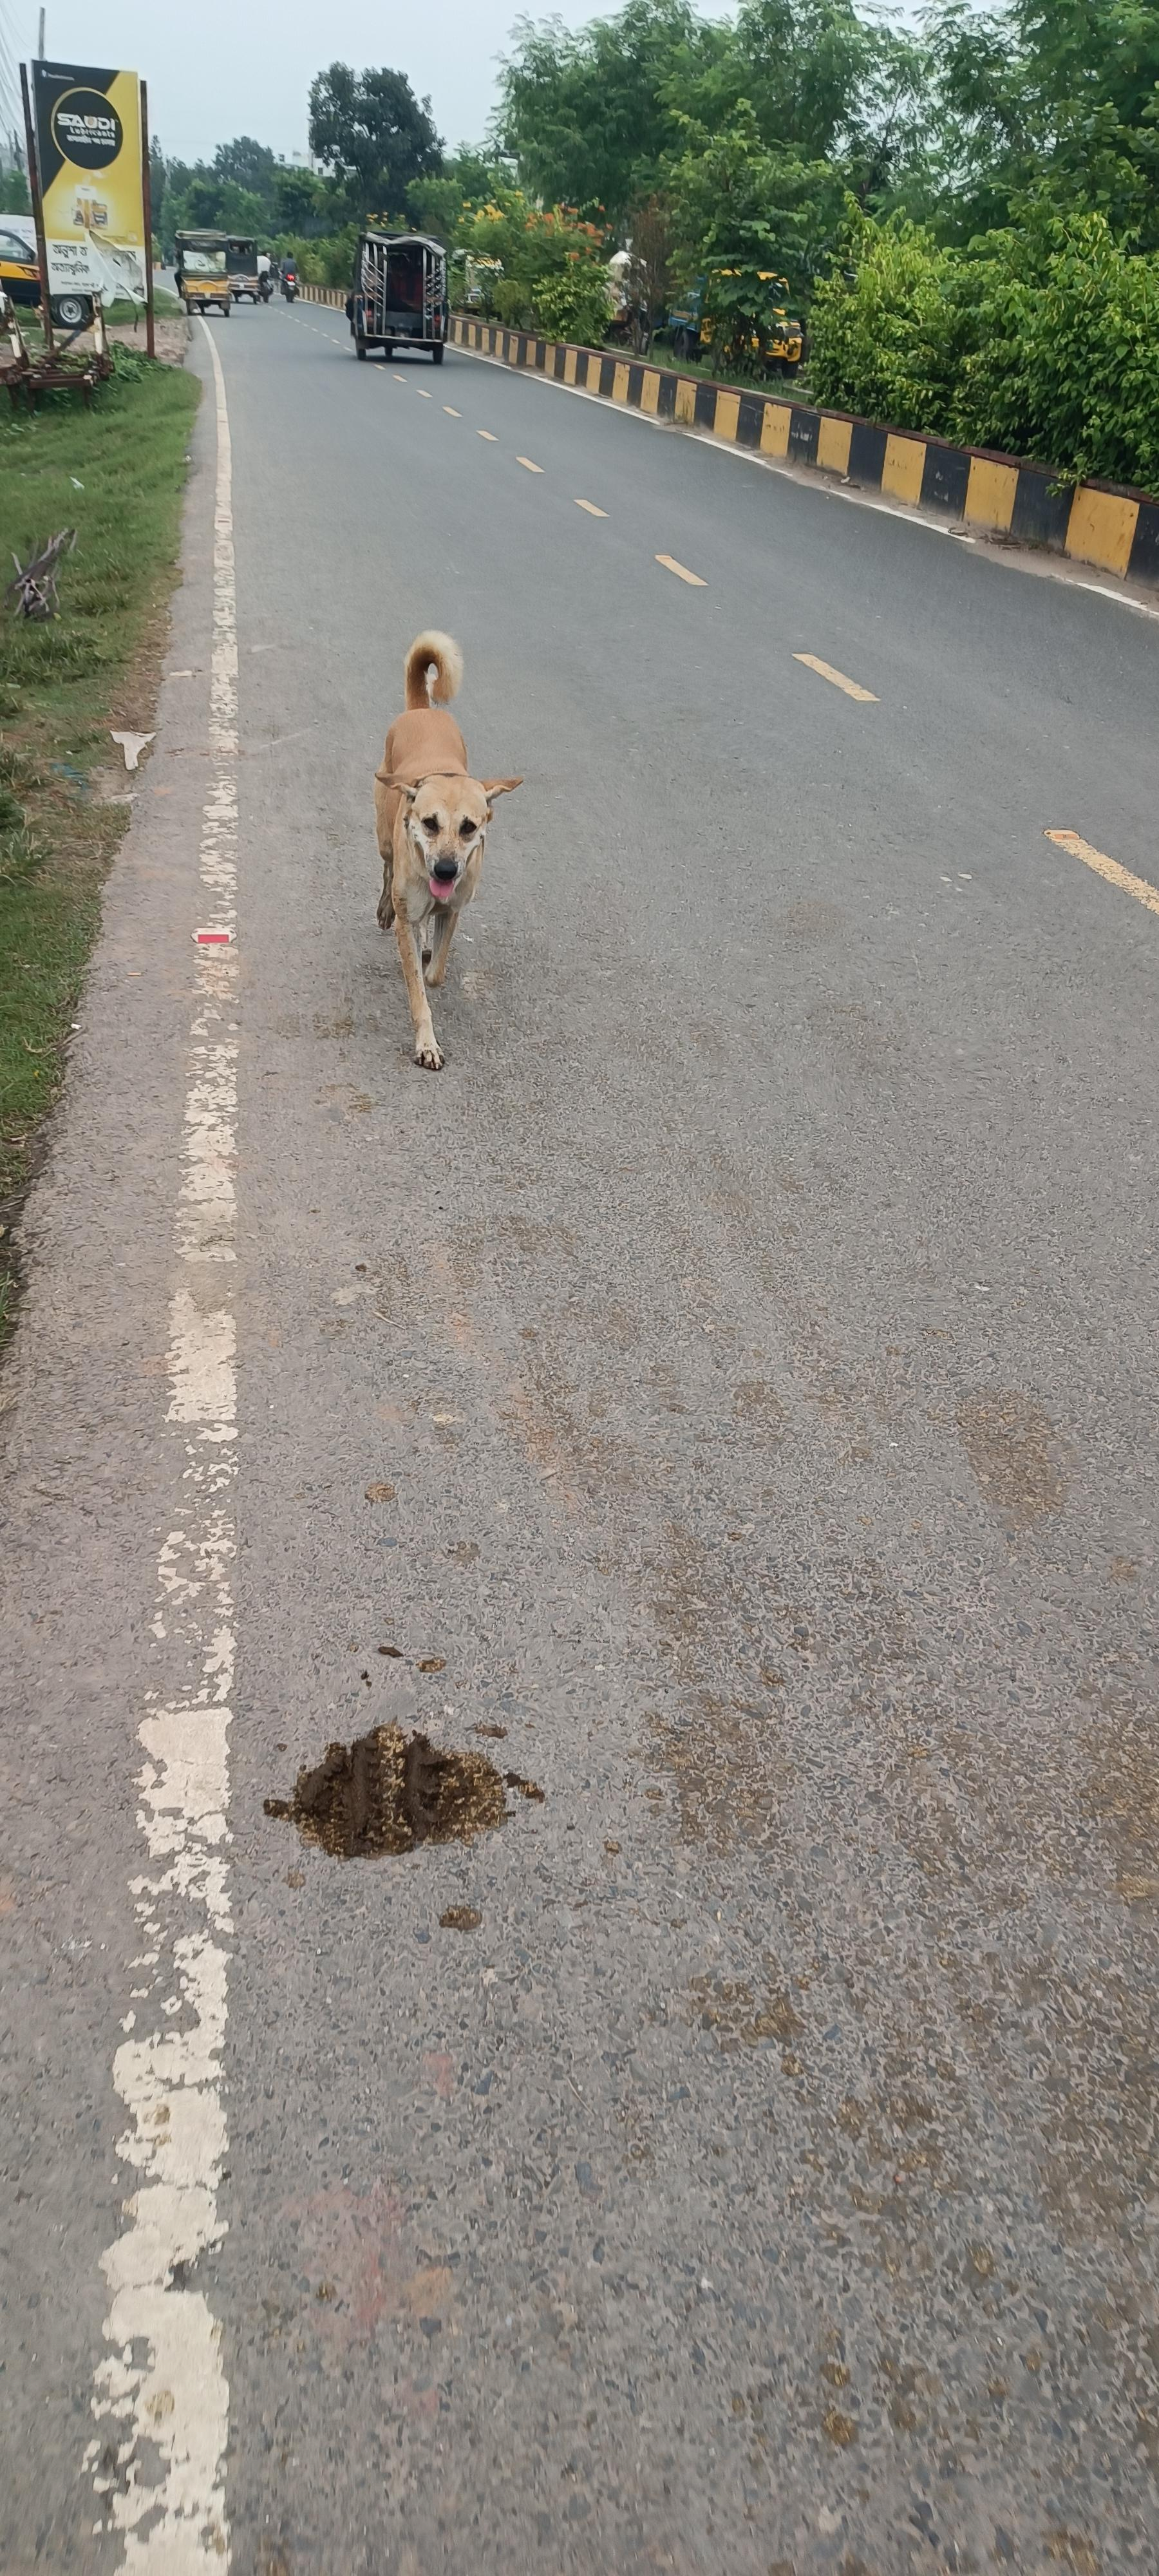Construction-barrier: (445, 306, 1156, 582)
Crosswalk: (373, 629, 524, 1071)
Dog: (259, 1717, 538, 1863)
Garbage: (21, 57, 151, 332)
Garbage-bin: (258, 251, 273, 302)
Traffic-cone: (328, 207, 489, 457)
